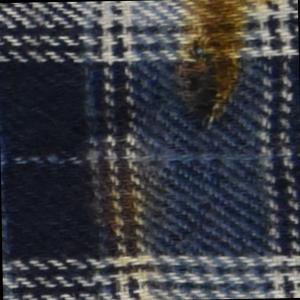Damage: (177, 23, 241, 133)
Oil Stain: (174, 1, 283, 119), (95, 149, 159, 300)
